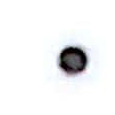cancer: (39, 27, 108, 93)
